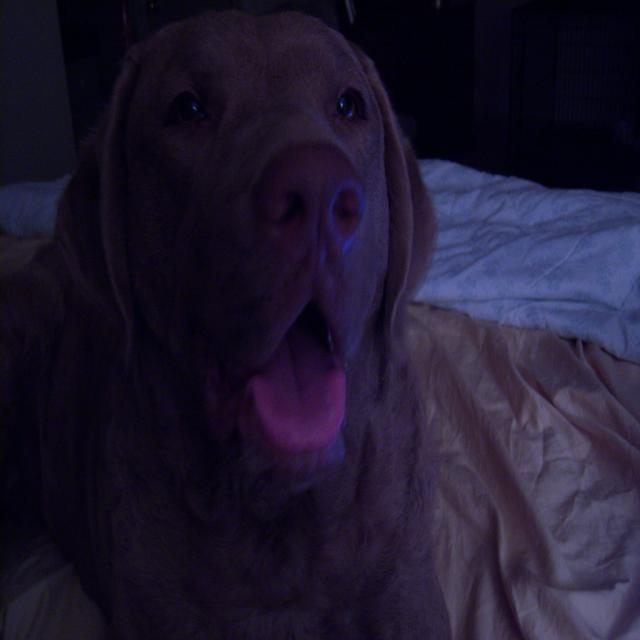dog: (104, 7, 443, 640)
